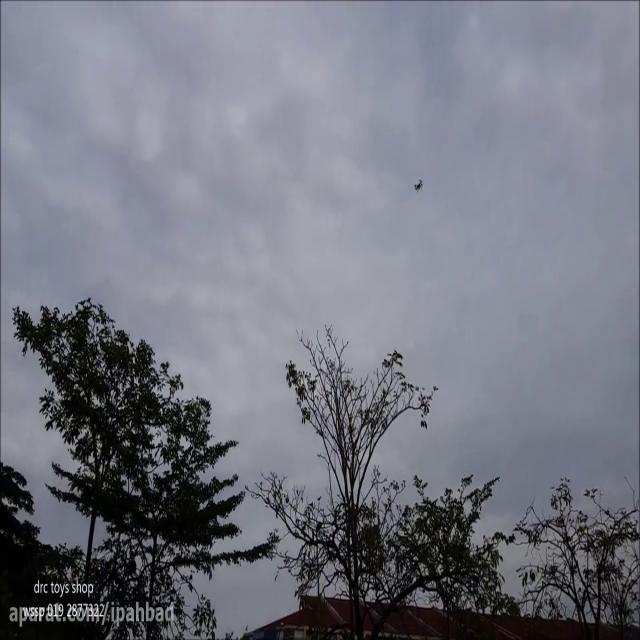drone: (412, 174, 426, 194)
